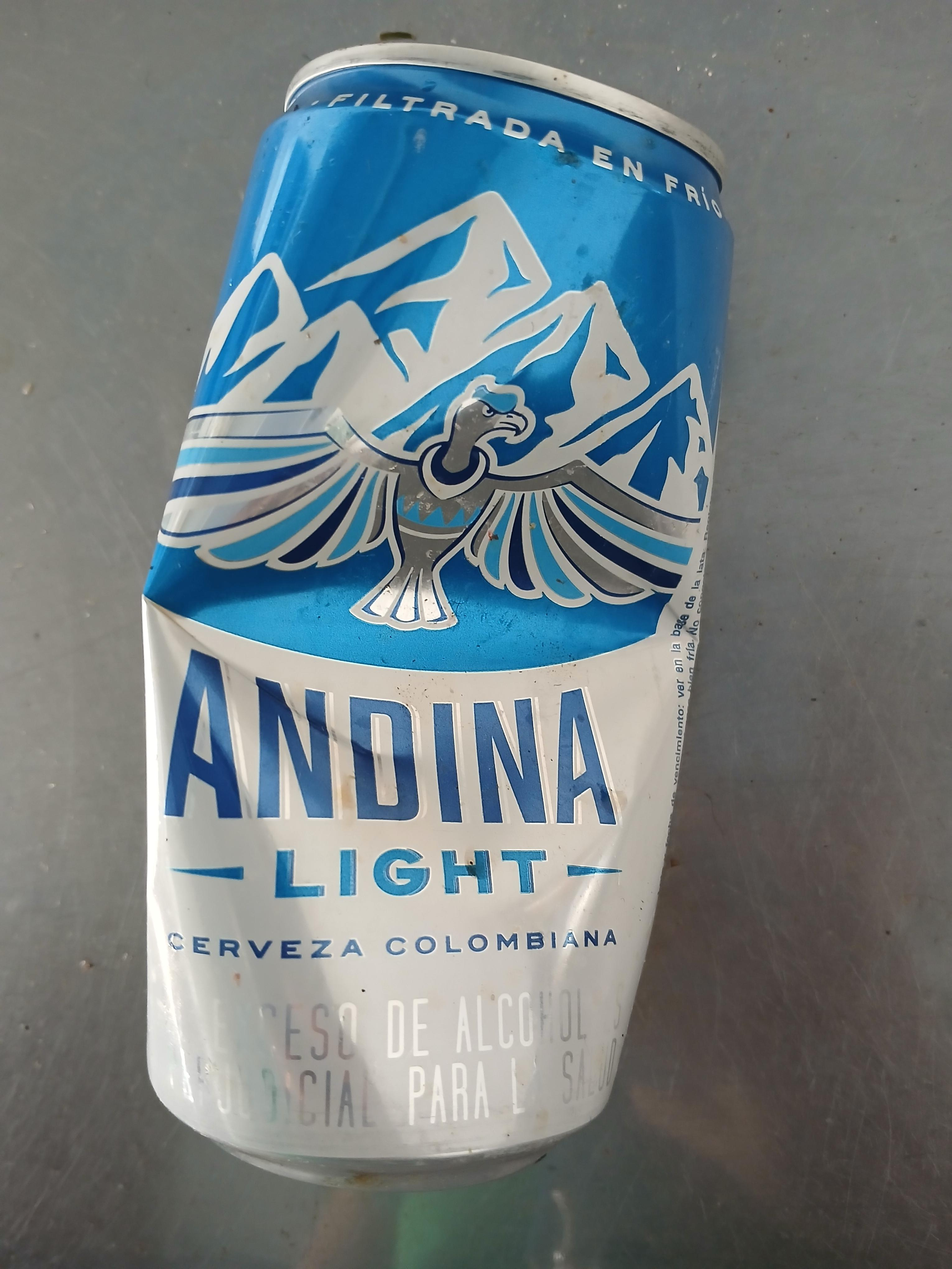Metal: (143, 41, 731, 1195)
